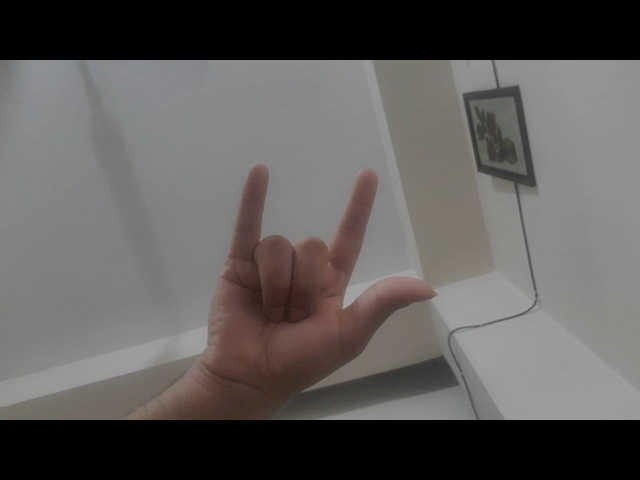I love you: (178, 149, 445, 402)
